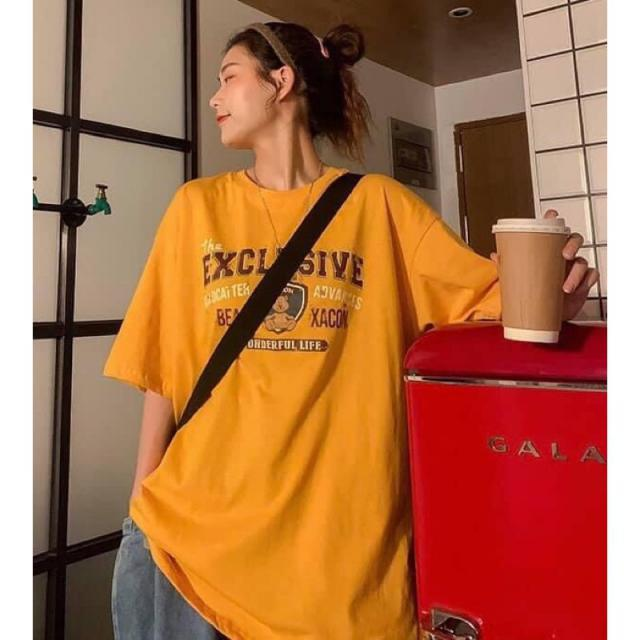Shirt: (95, 163, 539, 639)
